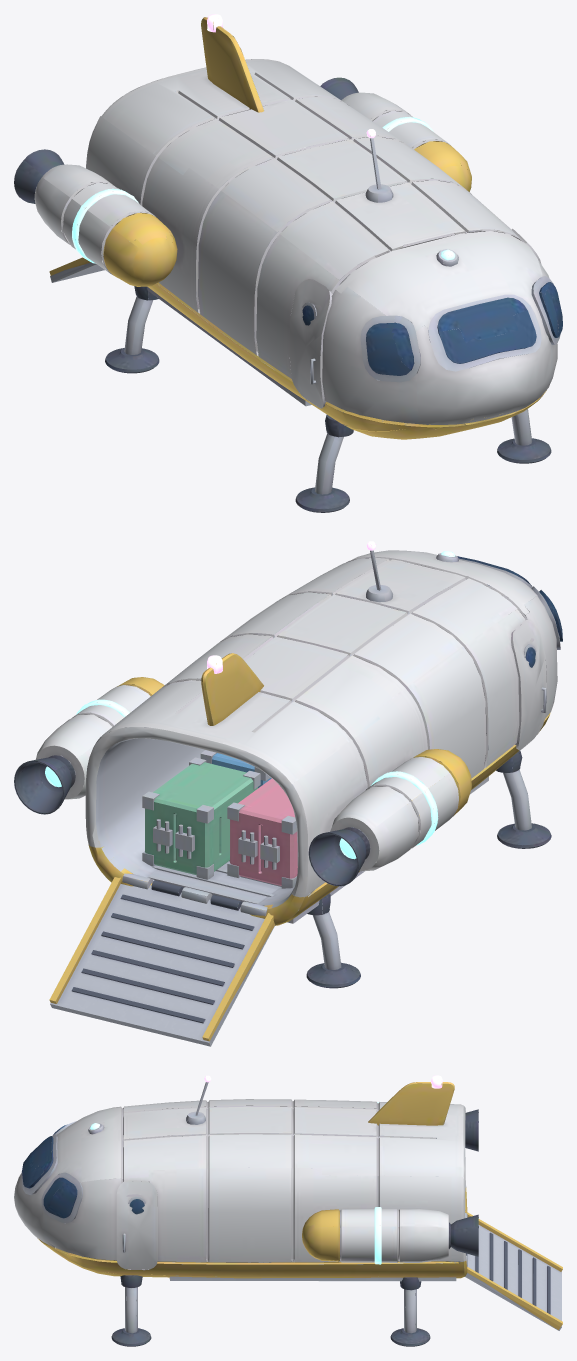
File: lanzadera.glb
The picture shows the model from 3 angles, top to bottom: view 1: azimuth 30°, elevation 25°; view 2: azimuth 150°, elevation 25°; view 3: azimuth 270°, elevation 25°; orthographic projection. The views are drawn at different scales.
Visible parts, largest first — view 1: cargo-shuttle_bay_light_glow; view 2: cargo-shuttle_bay_light_glow; view 3: cargo-shuttle_bay_light_glow.
Part boxes in pixels (<box>): cargo-shuttle_bay_light_glow: <box>14,14,562,512</box>; cargo-shuttle_bay_light_glow: <box>14,541,562,1046</box>; cargo-shuttle_bay_light_glow: <box>14,1075,562,1346</box>.
Bounding box in the file's own units: 5.22 × 4.29 × 9.35.
6 materials, 2 textured.
